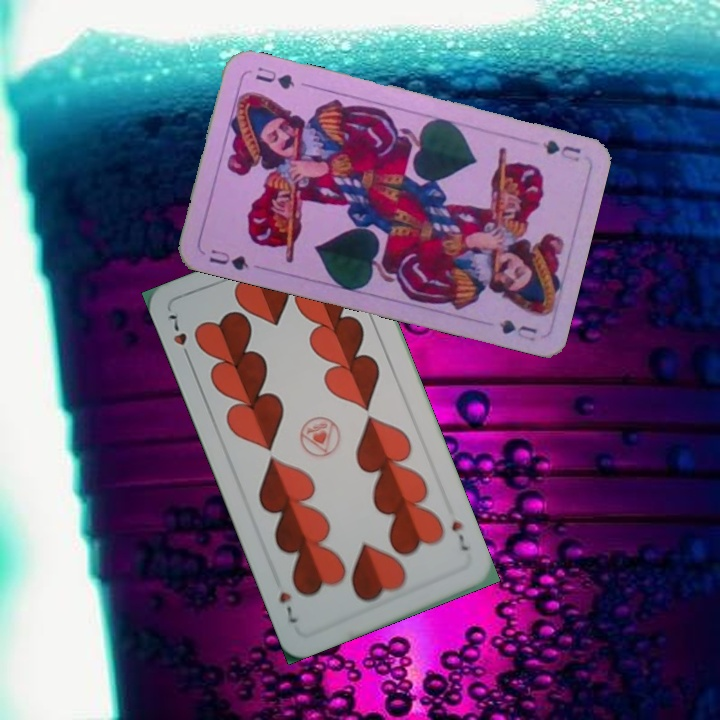GU: (538, 136, 584, 165), (205, 245, 251, 273)
H7: (163, 308, 193, 364), (447, 516, 471, 554)
